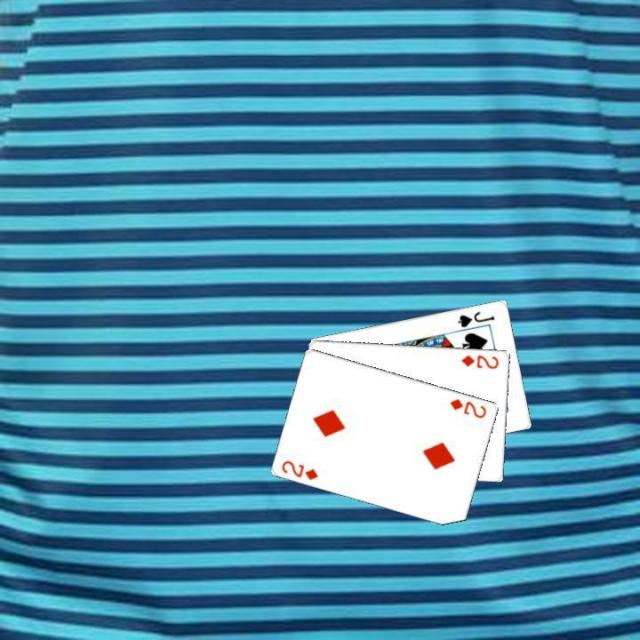2D: (446, 394, 488, 420), (278, 456, 320, 482), (458, 350, 500, 370)
JS: (454, 307, 496, 329)
